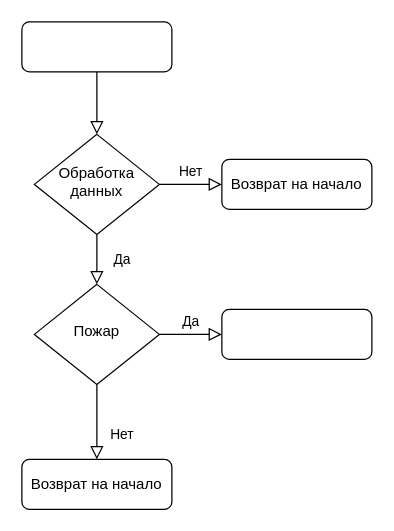
The diagram is 394 pixels wide and 531 high, and some of its shapes have lost their labels. Each missing label, with the box of its shape:
Данные с видеокамер: (21, 21, 172, 72)
Оповещение в диспетчерскую службу: (221, 308, 372, 359)
